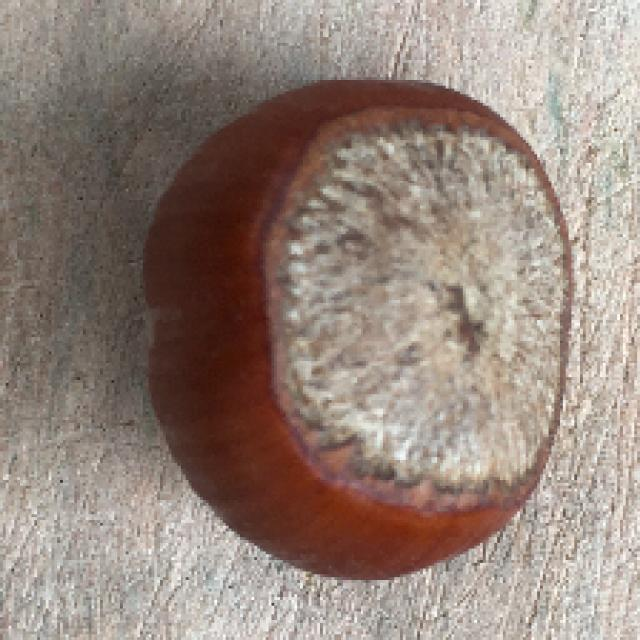qualityHazelnut: (127, 64, 581, 589)
